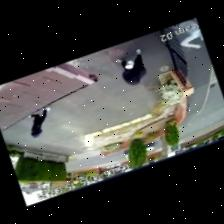person: (116, 48, 145, 85), (174, 19, 202, 48), (28, 106, 49, 137)
